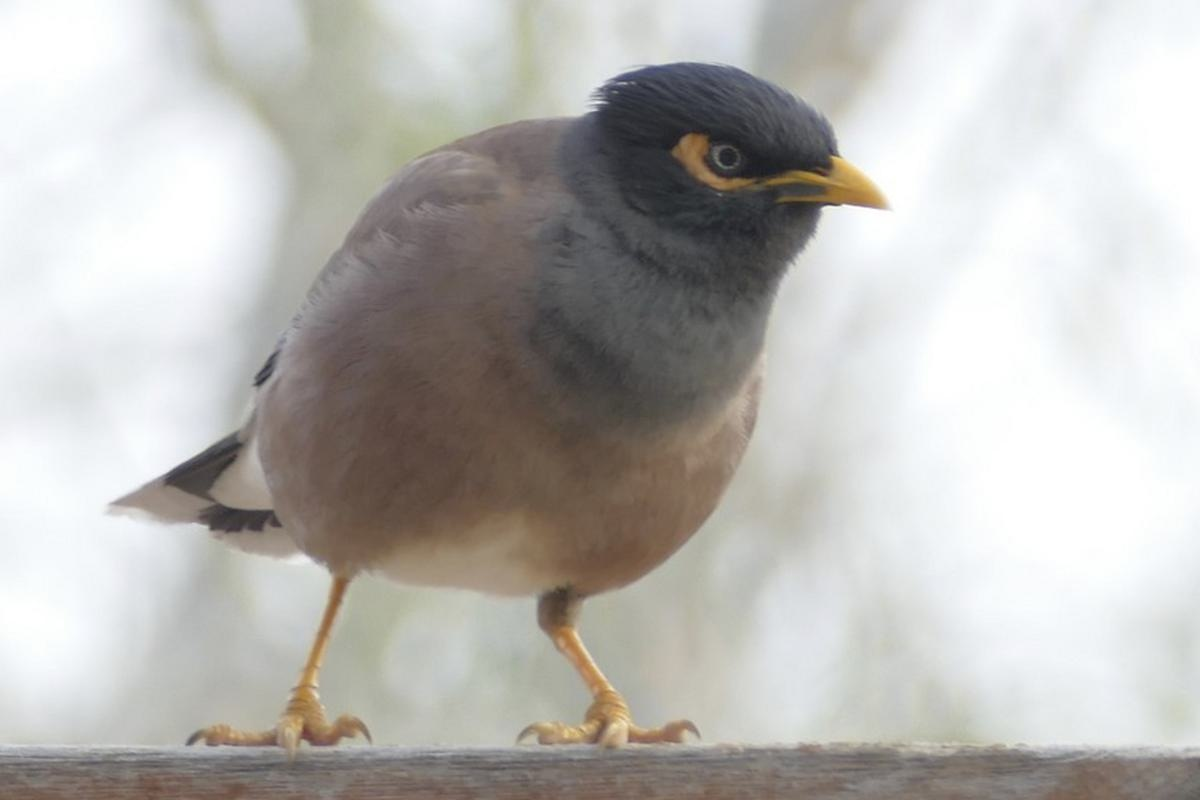myna: (245, 82, 939, 727)
